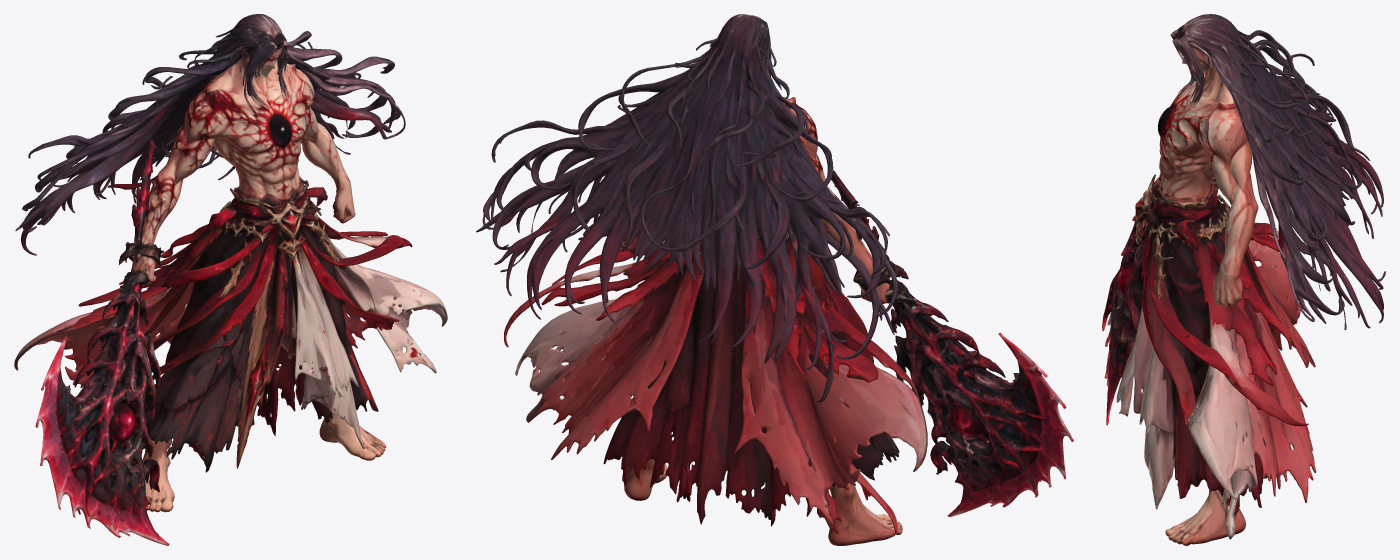
Rendered from Hajun-fase-1-otimizado.fbx.
3 views of the same model, side by side, from view 1: azimuth 30°, elevation 25°; view 2: azimuth 150°, elevation 25°; view 3: azimuth 270°, elevation 25° (orthographic). The views are drawn at different scales.
Parts seen in each view (by area): view 1: Hajun_Phase1; view 2: Hajun_Phase1; view 3: Hajun_Phase1.
Part boxes in pixels (x1,y1,x2,y2): Hajun_Phase1: (14,14,447,545); Hajun_Phase1: (476,14,1073,545); Hajun_Phase1: (1102,14,1385,545).
Size of the model in its own units: 188 by 96.57 by 180.
